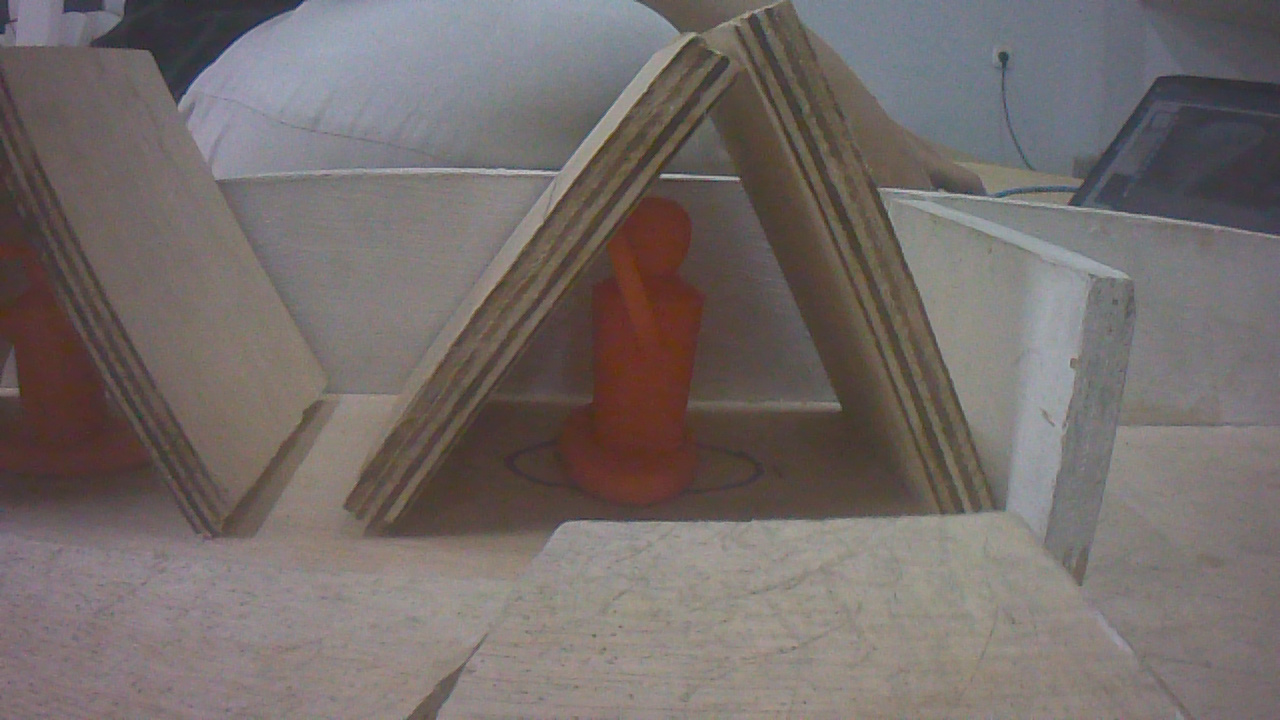real: (526, 195, 723, 493)
